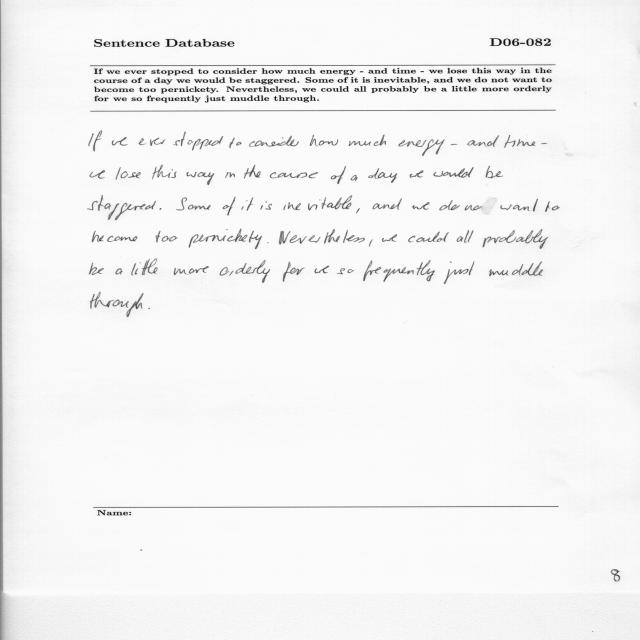word: (88, 195, 156, 220), (363, 260, 435, 282), (189, 229, 262, 249), (91, 292, 144, 317), (483, 229, 549, 249), (279, 229, 365, 244), (220, 260, 270, 283), (284, 196, 352, 211), (173, 132, 223, 151), (489, 262, 543, 277), (399, 139, 445, 156), (444, 261, 474, 284), (249, 136, 299, 147), (92, 231, 138, 242), (501, 199, 539, 212), (176, 198, 211, 211), (433, 167, 474, 178), (408, 232, 449, 243), (283, 262, 305, 282), (368, 168, 397, 183), (131, 259, 158, 275), (349, 135, 386, 146), (505, 135, 536, 148), (468, 135, 500, 147), (187, 172, 215, 185), (152, 165, 177, 179), (116, 167, 141, 180), (373, 199, 402, 210), (174, 266, 209, 275), (310, 135, 338, 146), (270, 172, 318, 178), (89, 131, 102, 152), (331, 166, 346, 184), (223, 197, 236, 216), (156, 231, 178, 242), (138, 138, 166, 146), (244, 165, 261, 178), (457, 230, 474, 243), (439, 200, 460, 210), (486, 166, 503, 178), (89, 263, 104, 275), (545, 201, 560, 212), (242, 198, 254, 211), (112, 137, 128, 146), (412, 202, 430, 210), (229, 137, 242, 148), (90, 170, 105, 179), (382, 234, 397, 242), (410, 170, 424, 178), (315, 266, 329, 274), (260, 201, 272, 210), (337, 268, 354, 274), (465, 205, 483, 210), (225, 172, 235, 178), (116, 268, 123, 275), (351, 175, 358, 181), (369, 239, 373, 247), (356, 208, 360, 214), (451, 144, 458, 145), (541, 143, 548, 144), (160, 208, 162, 210), (267, 243, 269, 244), (148, 308, 150, 309)
